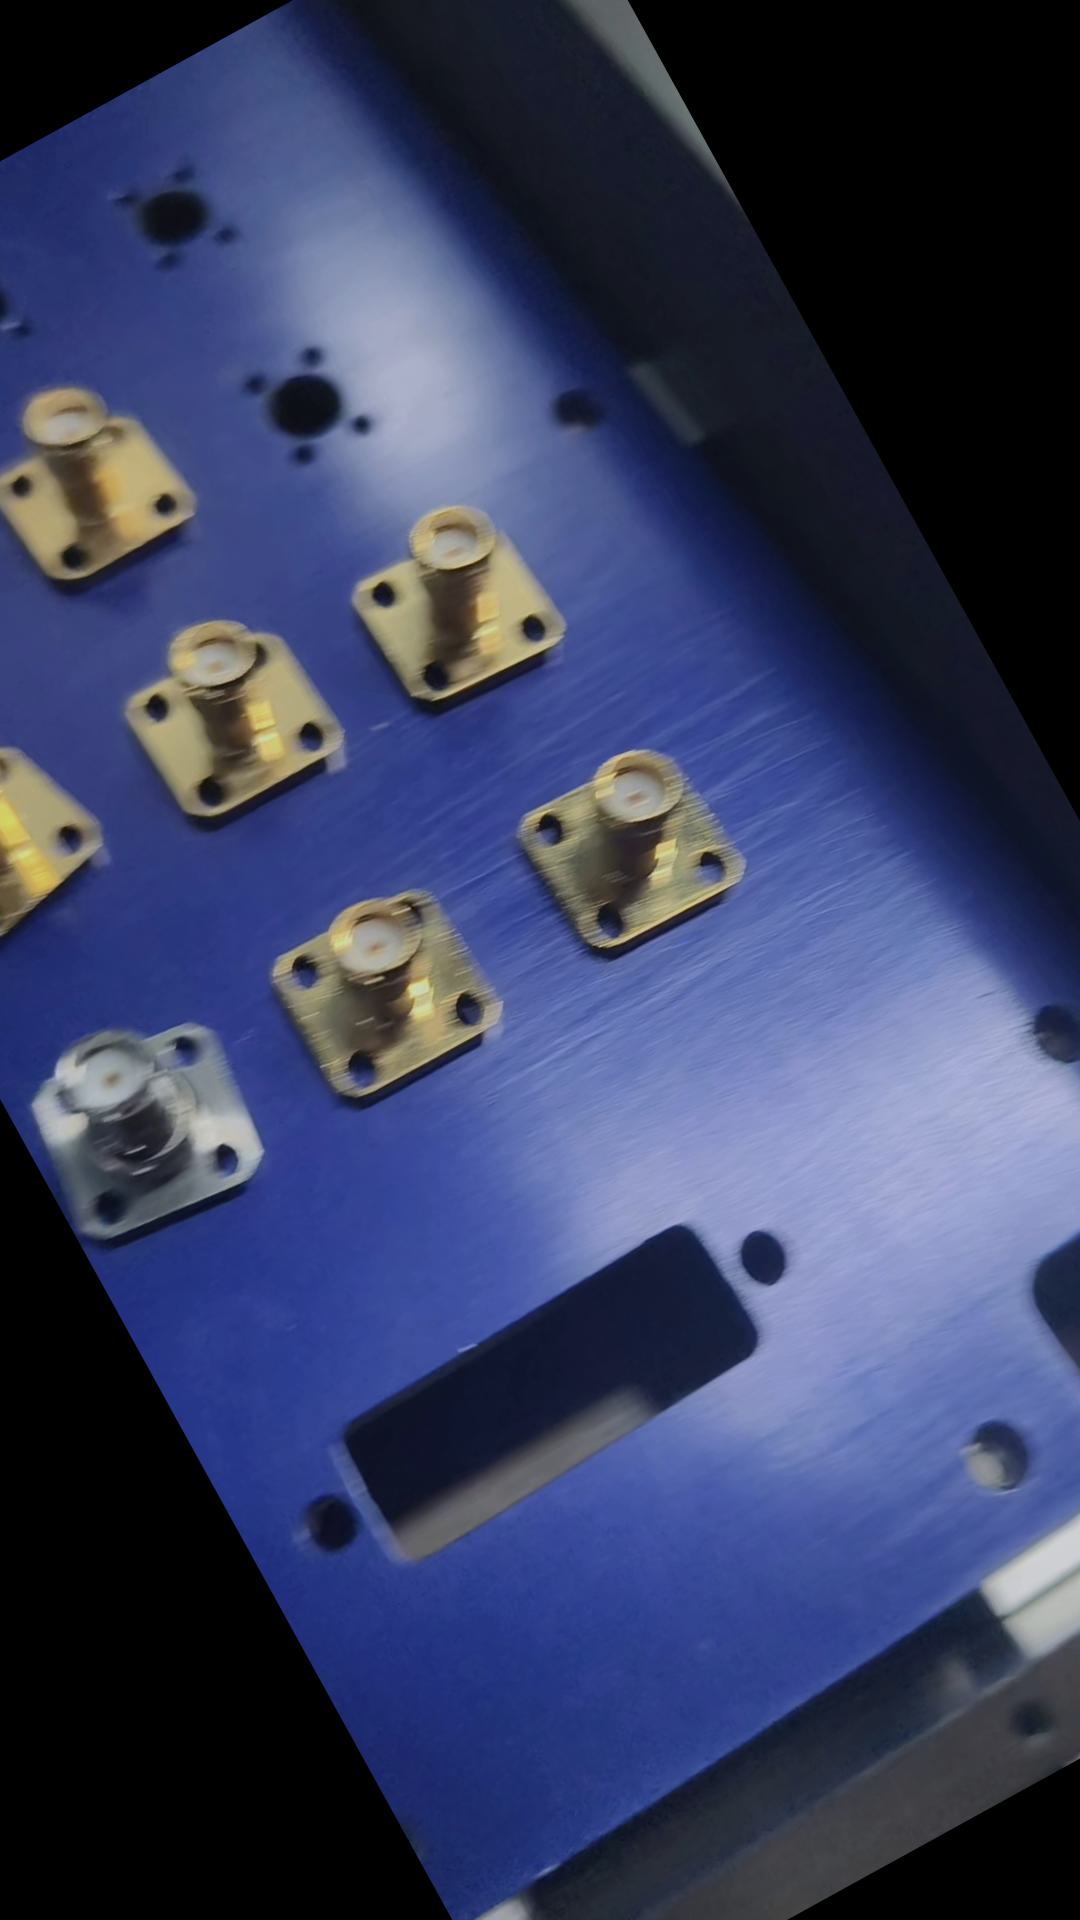SMA: (0, 981, 293, 1278), (247, 861, 520, 1127), (95, 579, 360, 847), (500, 724, 762, 980), (327, 475, 583, 727), (0, 352, 204, 616), (0, 678, 123, 984)
